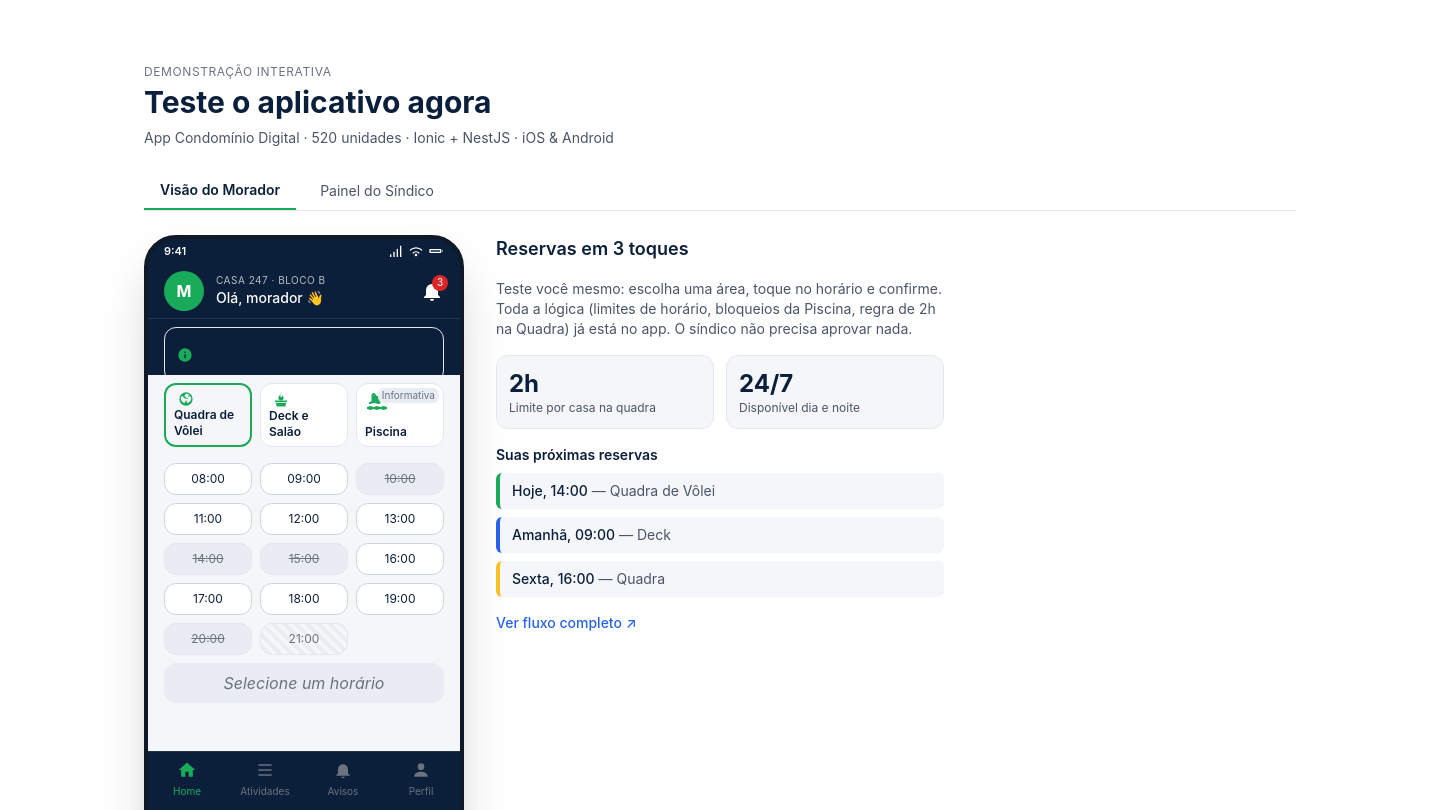
Test: DemoMorador — fluxo de reserva › selecionar slot livre habilita o botão de confirmação
Click the button "09:00" at x=304, y=479, box [260,463,348,495]
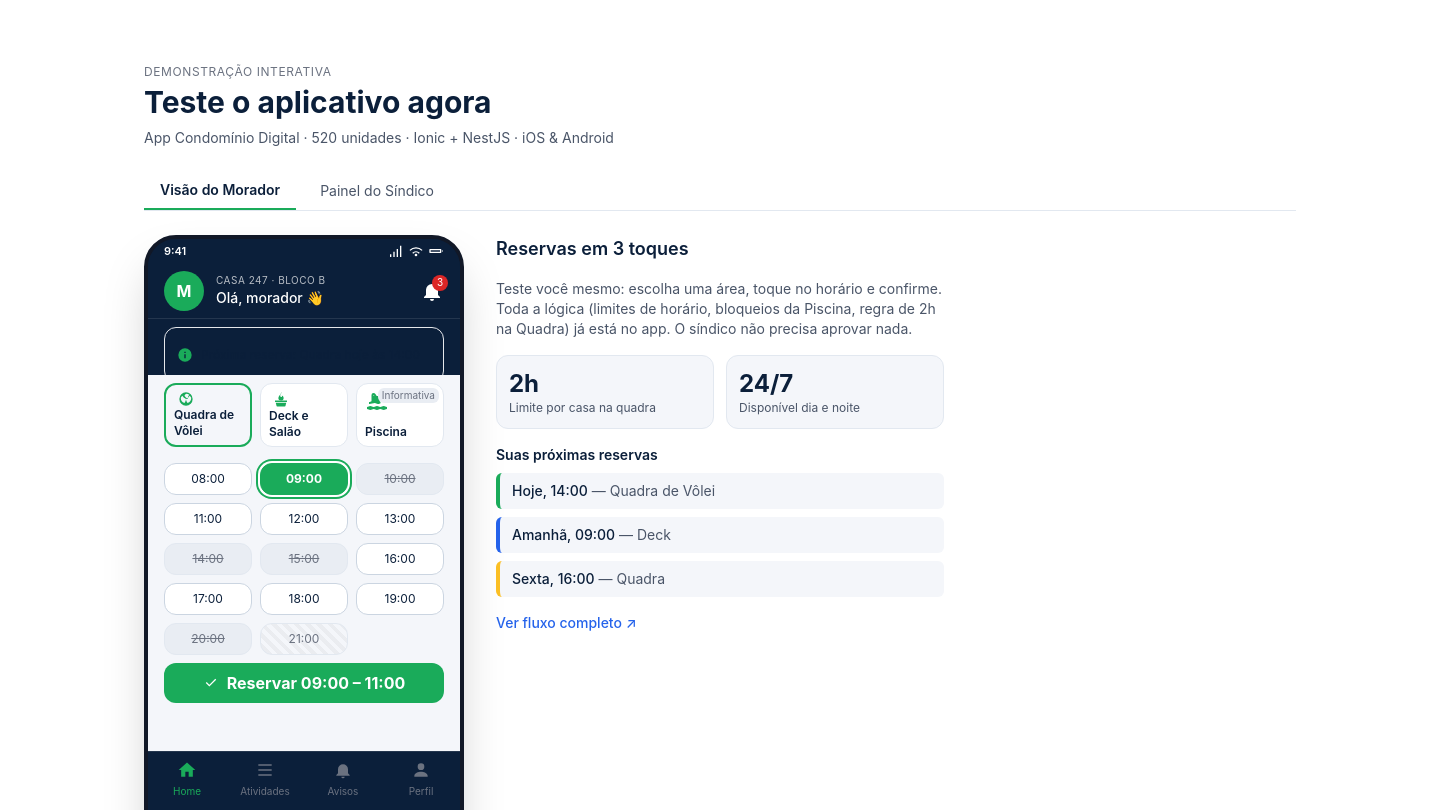
Result: the button "Reservar 09:00 – 11:00" is enabled at [164,663,444,703]
